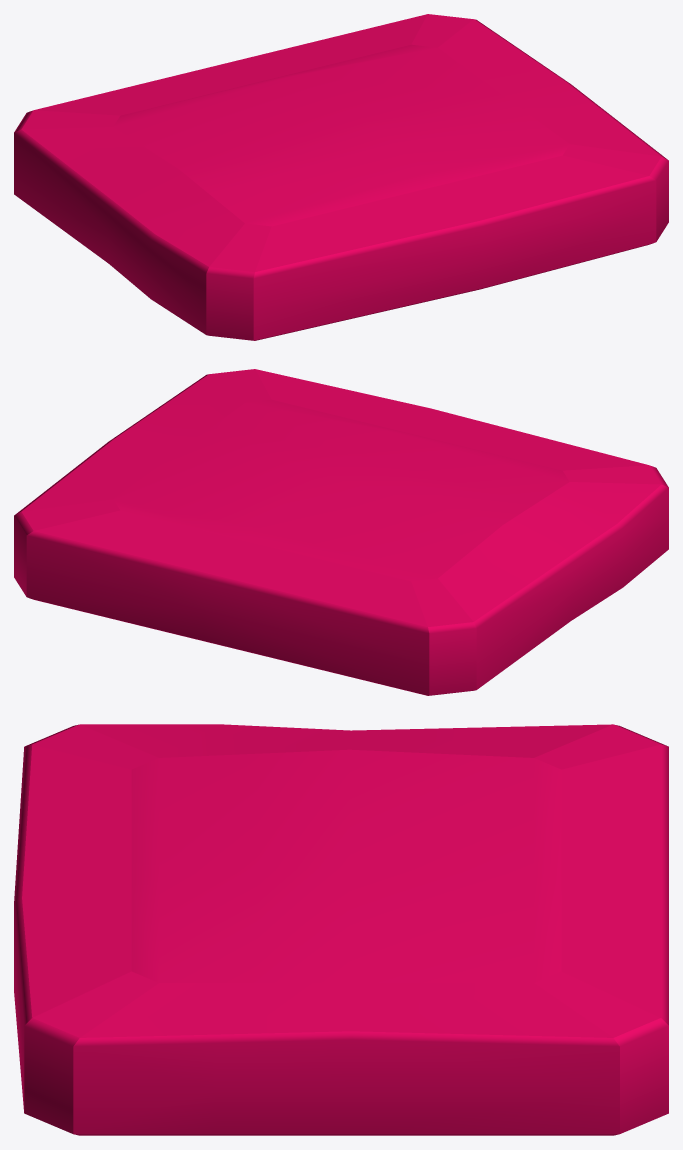
The model's file is Sofa_04_Pillow_02_Lod1.fbx.
3 views of the same model, one above another, from view 1: azimuth 30°, elevation 25°; view 2: azimuth 150°, elevation 25°; view 3: azimuth 270°, elevation 25° (orthographic). The views are drawn at different scales.
Parts seen in each view (by area): view 1: Sofa_04_Pillow_02_Lod1; view 2: Sofa_04_Pillow_02_Lod1; view 3: Sofa_04_Pillow_02_Lod1.
Boxes of the visible parts, box(x1,y1,x2,y2) form: Sofa_04_Pillow_02_Lod1: box(14, 14, 668, 340); Sofa_04_Pillow_02_Lod1: box(14, 369, 668, 695); Sofa_04_Pillow_02_Lod1: box(14, 724, 668, 1135).
Bounding box in the file's own units: 121 × 23.84 × 104.
